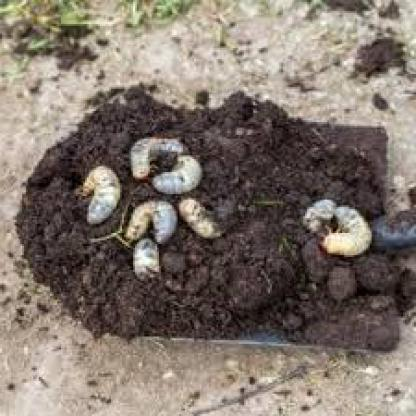root grubs: (323, 206, 372, 256)
